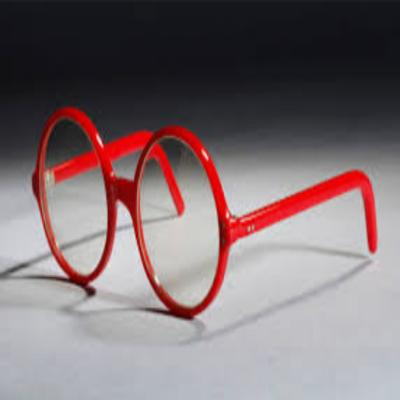glasses: (27, 102, 384, 327)
